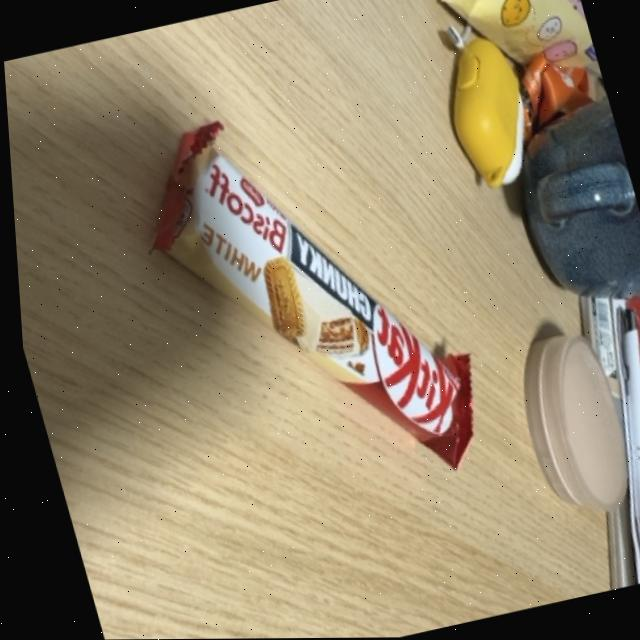chocolate: (108, 72, 506, 531)
